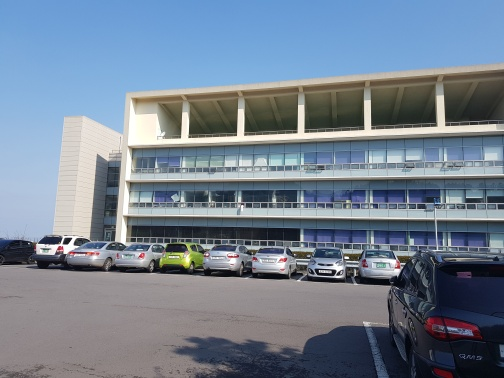Engineering College Building 4: (62, 79, 503, 246), (125, 92, 499, 246)
